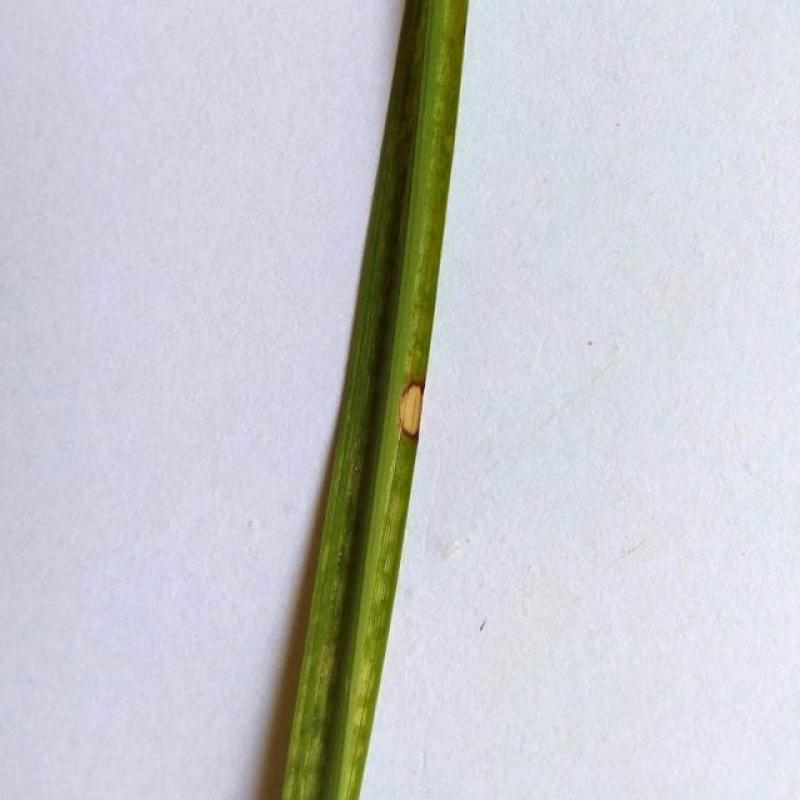Leaf_Blast: (392, 304, 457, 516)
